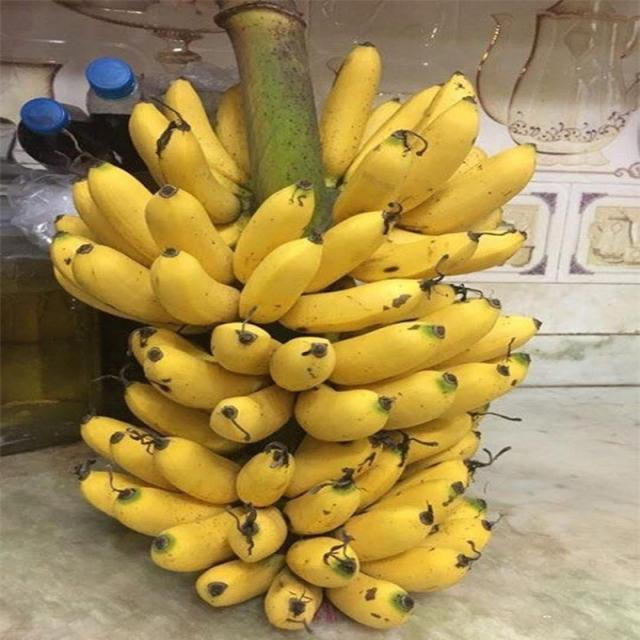Banana: (51, 25, 516, 630), (59, 69, 594, 324), (86, 396, 498, 624), (98, 304, 551, 472)
